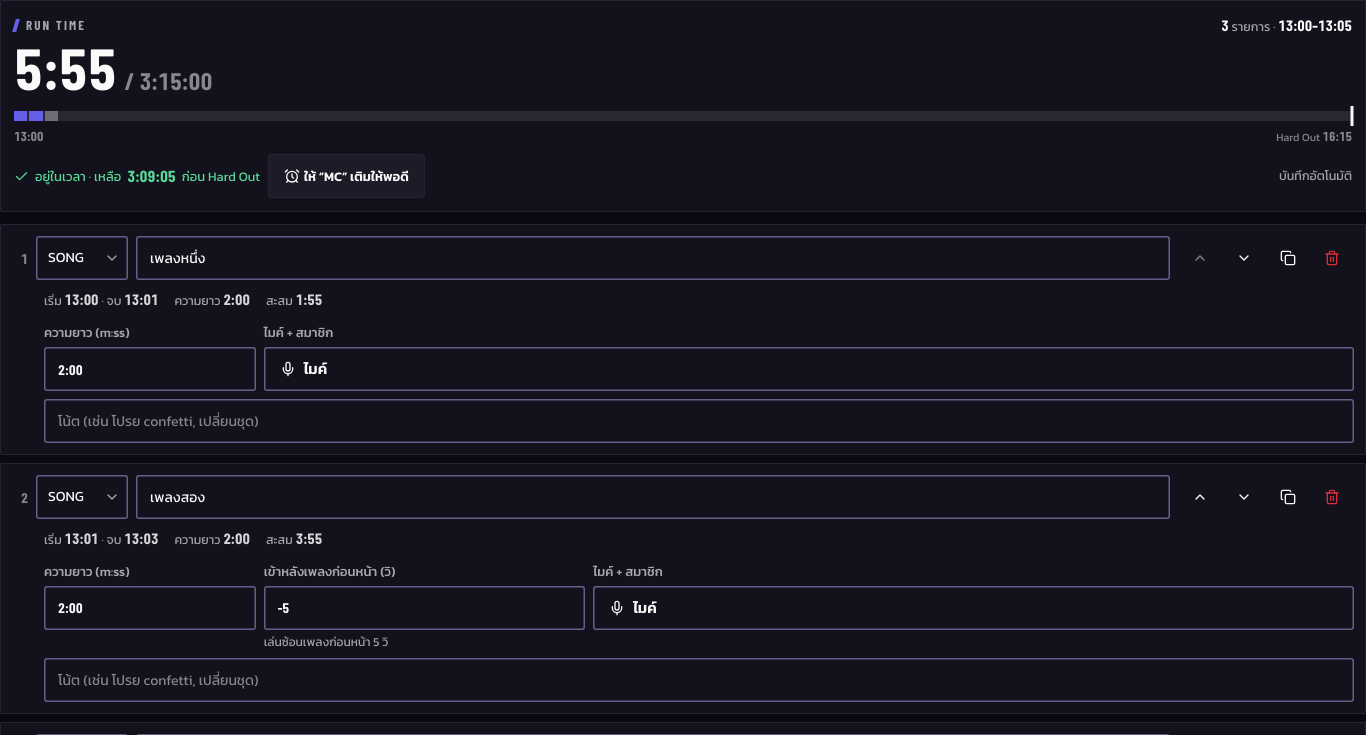
Scenario: SetlistBuilder · the timing field says what its number does › reads -5 as an overlap, 3 as a wait, 0 as straight after
Replace the text in the field labelled "เข้าหลังเพลงก่อนหน้า (วิ)" with "3" at x=424, y=608, box [264,586,585,630]
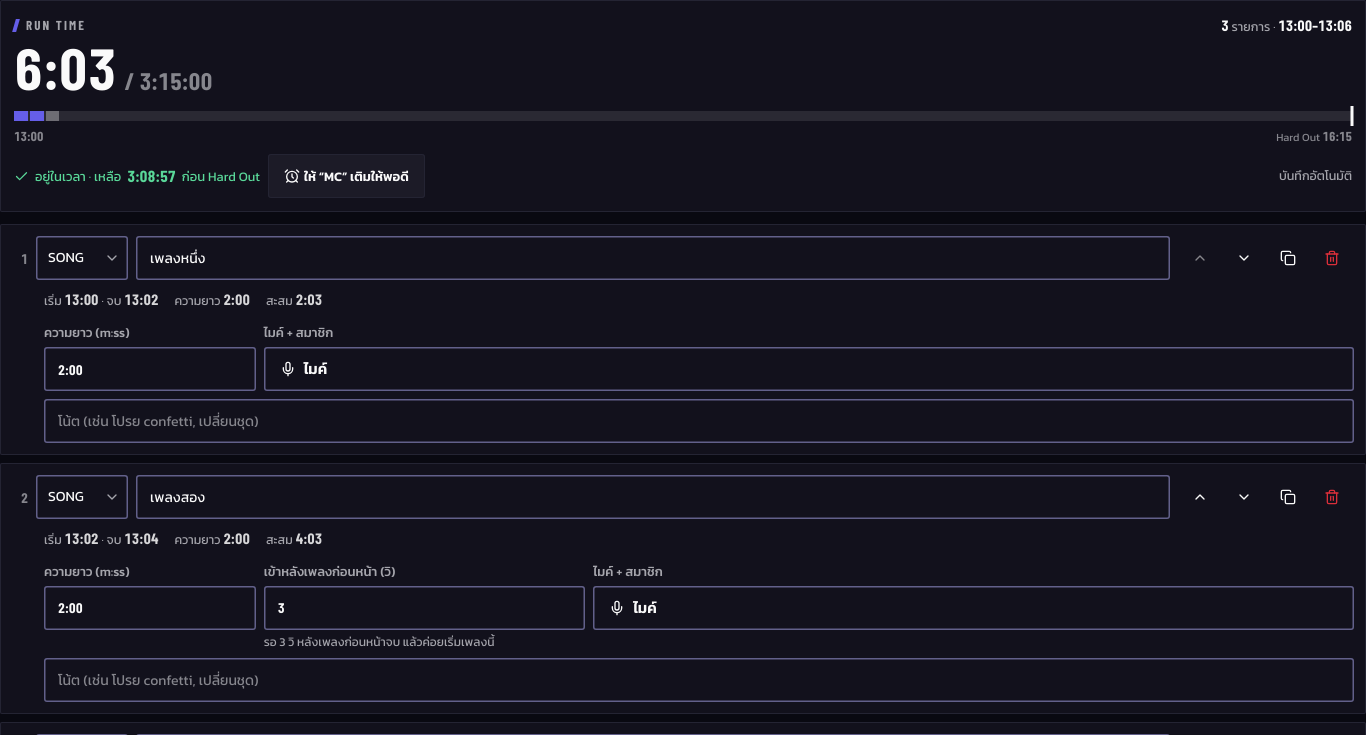
Check: the text with test id "timing-meaning" reads "รอ 3 วิ หลังเพลงก่อนหน้าจบ แล้วค่อยเริ่มเพลงนี้", box [264,633,494,651]
